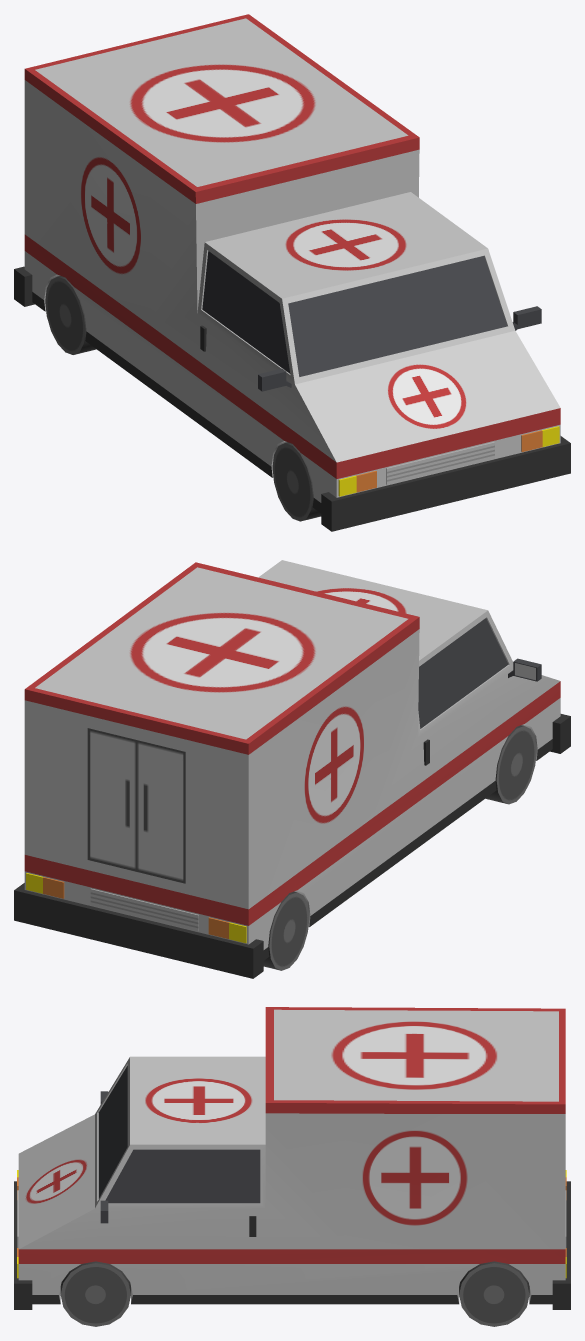
The model's file is ambulance01_color01.fbx.
3 renders of one model, top to bottom at view 1: azimuth 30°, elevation 25°; view 2: azimuth 150°, elevation 25°; view 3: azimuth 270°, elevation 25°, orthographic. The views are drawn at different scales.
Parts seen in each view (by area): view 1: Cube.356, Cube.362, Cube.363; view 2: Cube.356, Cube.363, Cube.362; view 3: Cube.356, Cube.359, Cube.360.
Boxes of the visible parts, box(x1,y1,x2,y2) form: Cube.356: box(14, 14, 570, 531); Cube.362: box(45, 276, 96, 354); Cube.363: box(272, 442, 321, 521); Cube.356: box(14, 560, 570, 978); Cube.363: box(485, 725, 536, 804); Cube.362: box(263, 891, 309, 970); Cube.356: box(14, 1007, 570, 1309); Cube.359: box(459, 1261, 529, 1326); Cube.360: box(60, 1261, 130, 1326).
Bounding box in the file's own units: 327 × 285 × 643.
